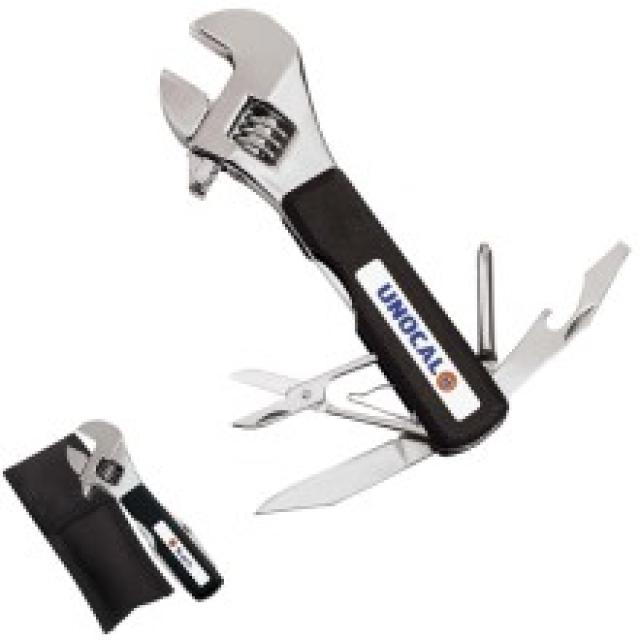wrench: (48, 0, 380, 256)
